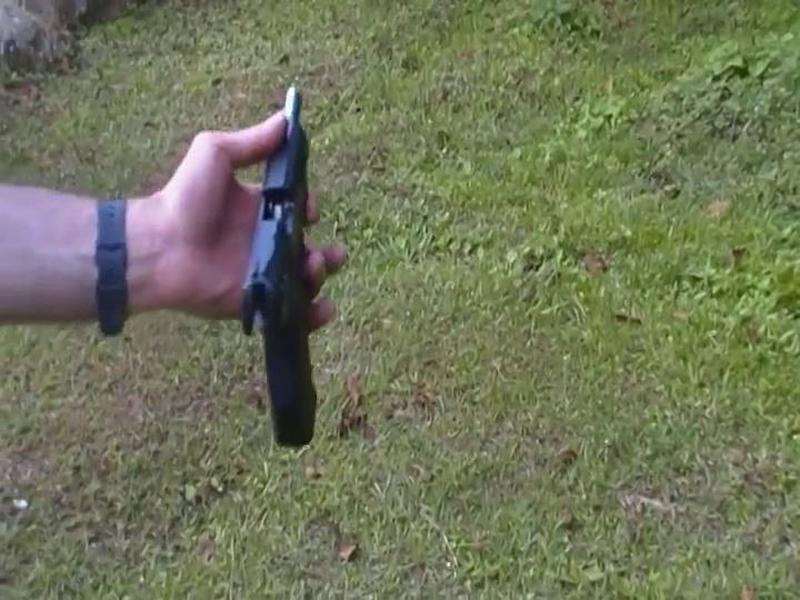Pistola: (182, 111, 359, 456)
